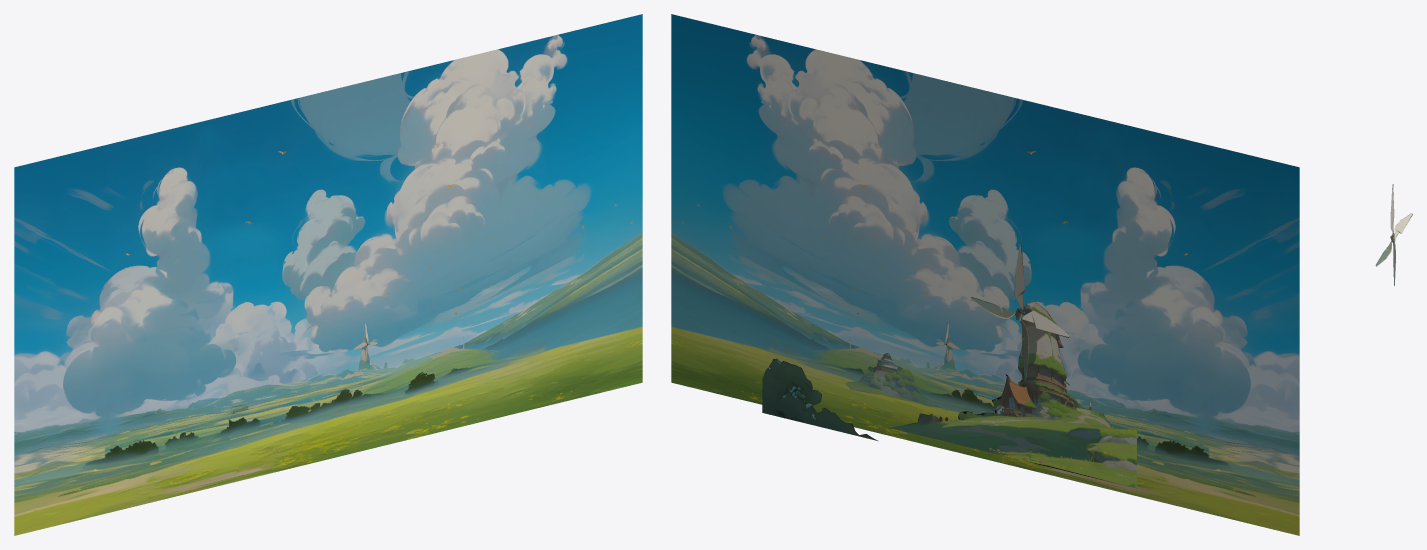
File: windmill scene.glb
3 renders of one model, left to right at view 1: azimuth 30°, elevation 25°; view 2: azimuth 150°, elevation 25°; view 3: azimuth 270°, elevation 25°, orthographic. The views are drawn at different scales.
Visible parts, largest first — view 1: Plane001; view 2: Plane001, Plane003, Plane004, Plane002, Plane005; view 3: Plane005.
Boxes of the visible parts, box(x1,y1,x2,y2) form: Plane001: box(14, 14, 642, 535); Plane001: box(671, 14, 1299, 535); Plane003: box(890, 301, 1136, 488); Plane004: box(762, 358, 878, 441); Plane002: box(845, 353, 946, 410); Plane005: box(971, 244, 1069, 381); Plane005: box(1375, 184, 1412, 285).
Size of the model in its own units: 93.37 by 52.33 by 14.06.
Materials: 5 (5 with a texture image).
